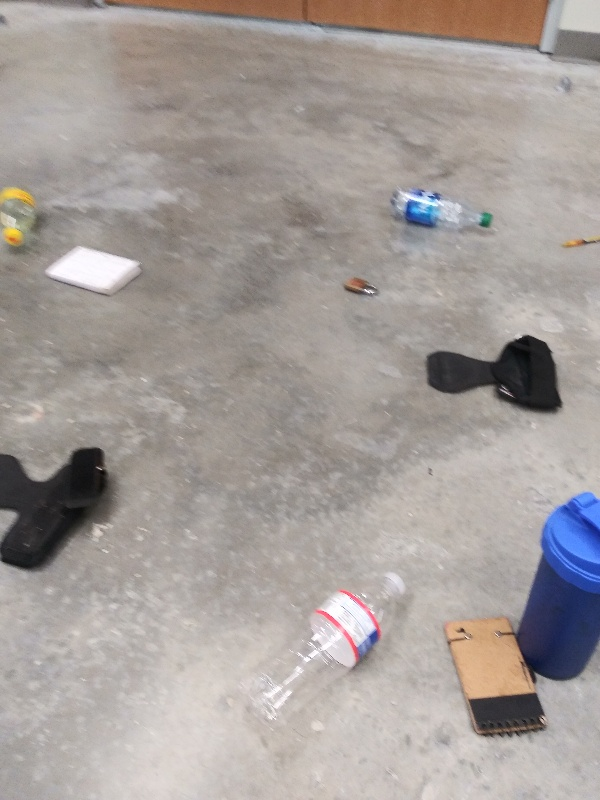bottle: (240, 569, 409, 733), (388, 184, 496, 234), (1, 180, 40, 249)
